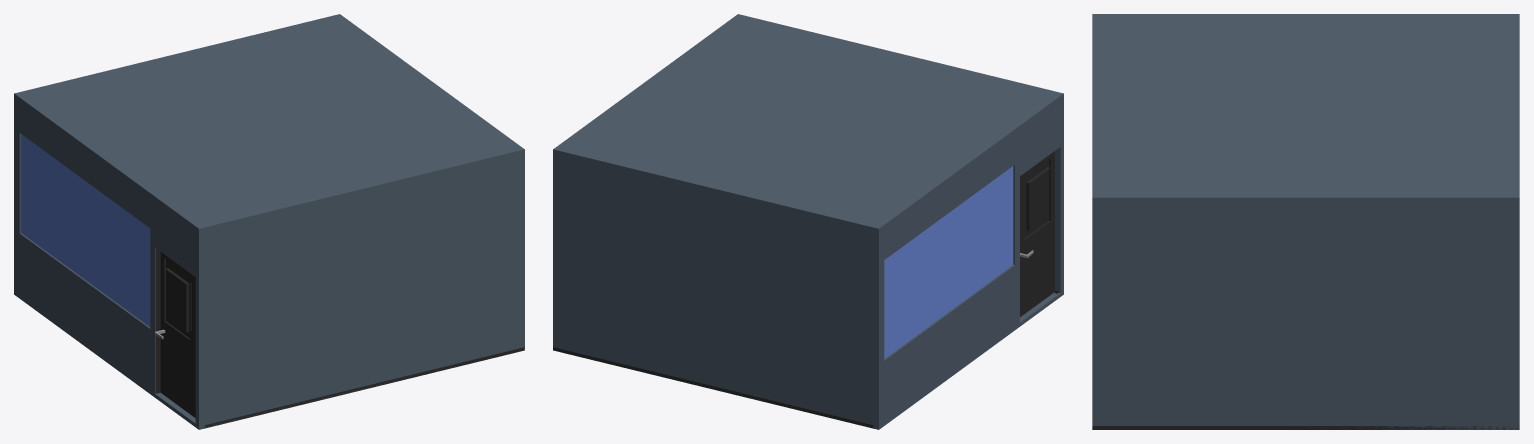
Rendered from room1.fbx.
3 views of the same model, side by side, from view 1: azimuth 30°, elevation 25°; view 2: azimuth 150°, elevation 25°; view 3: azimuth 270°, elevation 25° (orthographic). The views are drawn at different scales.
Visible parts, largest first — view 1: room1, room1_front_wall, room1_window, door; view 2: room1, room1_front_wall, room1_window, door; view 3: room1, room1_front_wall.
Boxes of the visible parts, bbox=[...] form: room1: bbox=[20, 14, 524, 428]; room1_front_wall: bbox=[14, 92, 204, 429]; room1_window: bbox=[21, 134, 150, 326]; door: bbox=[154, 248, 195, 417]; room1: bbox=[553, 14, 1056, 428]; room1_front_wall: bbox=[872, 92, 1063, 429]; room1_window: bbox=[884, 166, 1013, 358]; door: bbox=[1020, 151, 1058, 317]; room1: bbox=[1092, 17, 1519, 429]; room1_front_wall: bbox=[1092, 14, 1519, 17].
Bounding box in the file's own units: 500 × 515 × 300.
